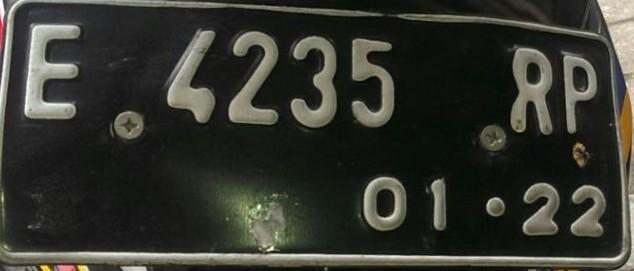clone-license-plate: (5, 0, 632, 265)
